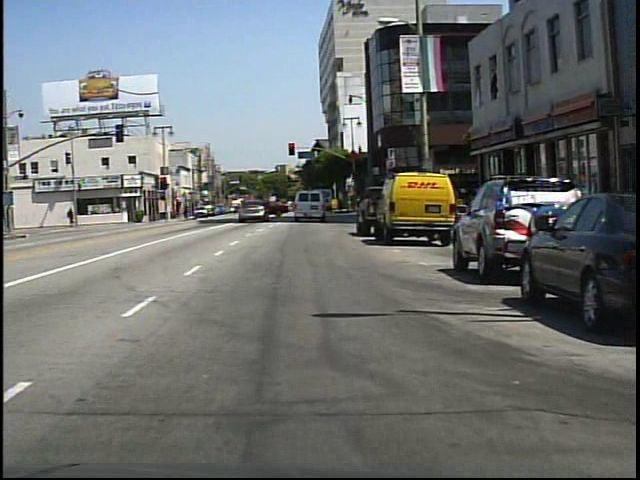person: (257, 194, 274, 225), (67, 205, 75, 226)
